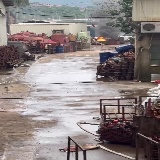fire: (96, 37, 106, 41)
